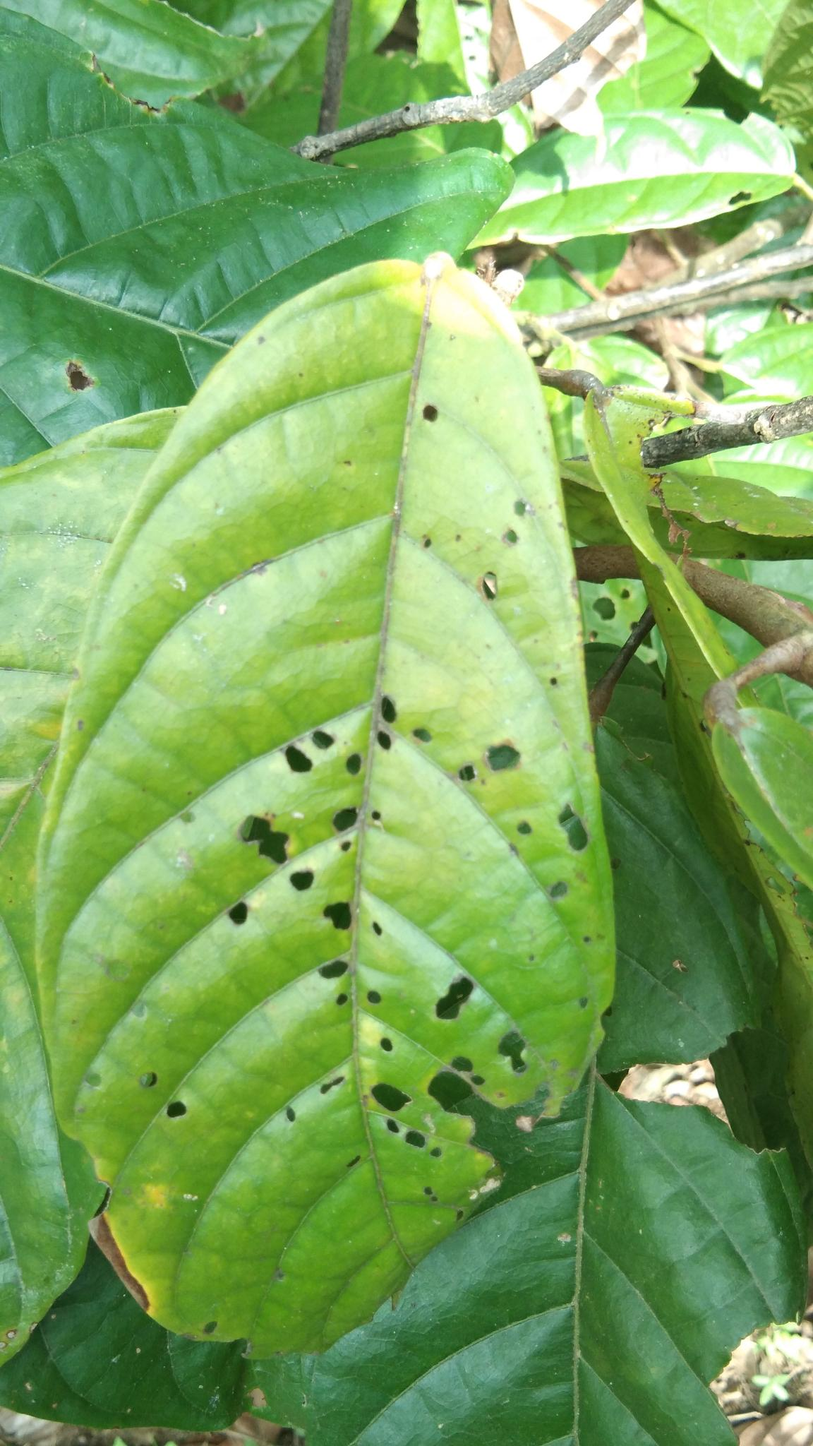Fosforo: (24, 257, 615, 1373)
